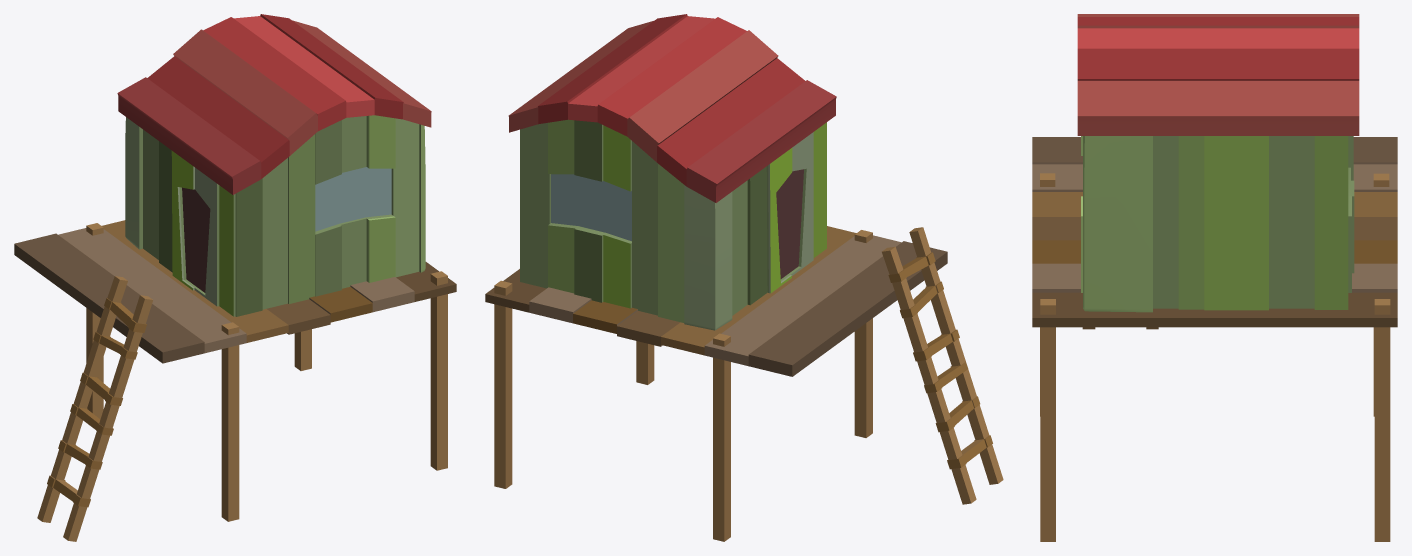
The model's file is Maizon_pecheur.fbx.
The picture shows the model from 3 angles, left to right: view 1: azimuth 30°, elevation 25°; view 2: azimuth 150°, elevation 25°; view 3: azimuth 270°, elevation 25°; orthographic projection. The views are drawn at different scales.
Visible parts, largest first — view 1: pasted__Cabane, pasted__Toit, pasted__Sol, pasted__pasted__pasted__pCube92, pasted__Fenetre1, pasted__Poto3, pasted__Poto2, pasted__Porte, pasted__Poto4, pasted__Poto1; view 2: pasted__Cabane, pasted__Toit, pasted__Sol, pasted__pasted__pasted__pCube92, pasted__Fenetre2, pasted__Poto1, pasted__Poto4, pasted__Poto3, pasted__Porte, pasted__Poto2; view 3: pasted__Cabane, pasted__Toit, pasted__Sol, pasted__Poto1, pasted__Poto2.
Boxes of the visible parts, x1=… form: pasted__Cabane: x1=125, y1=115, x2=425, y2=316; pasted__Toit: x1=117, y1=14, x2=431, y2=194; pasted__Sol: x1=14, y1=220, x2=456, y2=363; pasted__pasted__pasted__pCube92: x1=37, y1=276, x2=152, y2=541; pasted__Fenetre1: x1=315, y1=167, x2=391, y2=231; pasted__Poto3: x1=221, y1=322, x2=239, y2=521; pasted__Poto2: x1=430, y1=271, x2=447, y2=470; pasted__Porte: x1=182, y1=187, x2=210, y2=292; pasted__Poto4: x1=86, y1=223, x2=103, y2=419; pasted__Poto1: x1=294, y1=329, x2=311, y2=370; pasted__Cabane: x1=520, y1=119, x2=826, y2=330; pasted__Toit: x1=508, y1=14, x2=836, y2=202; pasted__Sol: x1=485, y1=226, x2=947, y2=376; pasted__pasted__pasted__pCube92: x1=882, y1=227, x2=1003, y2=504; pasted__Fenetre2: x1=551, y1=174, x2=631, y2=241; pasted__Poto1: x1=494, y1=280, x2=512, y2=488; pasted__Poto4: x1=713, y1=333, x2=730, y2=541; pasted__Poto3: x1=854, y1=230, x2=872, y2=437; pasted__Porte: x1=776, y1=169, x2=803, y2=278; pasted__Poto2: x1=636, y1=341, x2=654, y2=384; pasted__Cabane: x1=1081, y1=136, x2=1354, y2=312; pasted__Toit: x1=1077, y1=14, x2=1359, y2=135; pasted__Sol: x1=1032, y1=137, x2=1397, y2=327; pasted__Poto1: x1=1374, y1=299, x2=1390, y2=541; pasted__Poto2: x1=1040, y1=299, x2=1055, y2=541.
Size of the model in its own units: 37.56 by 36.81 by 26.25.
